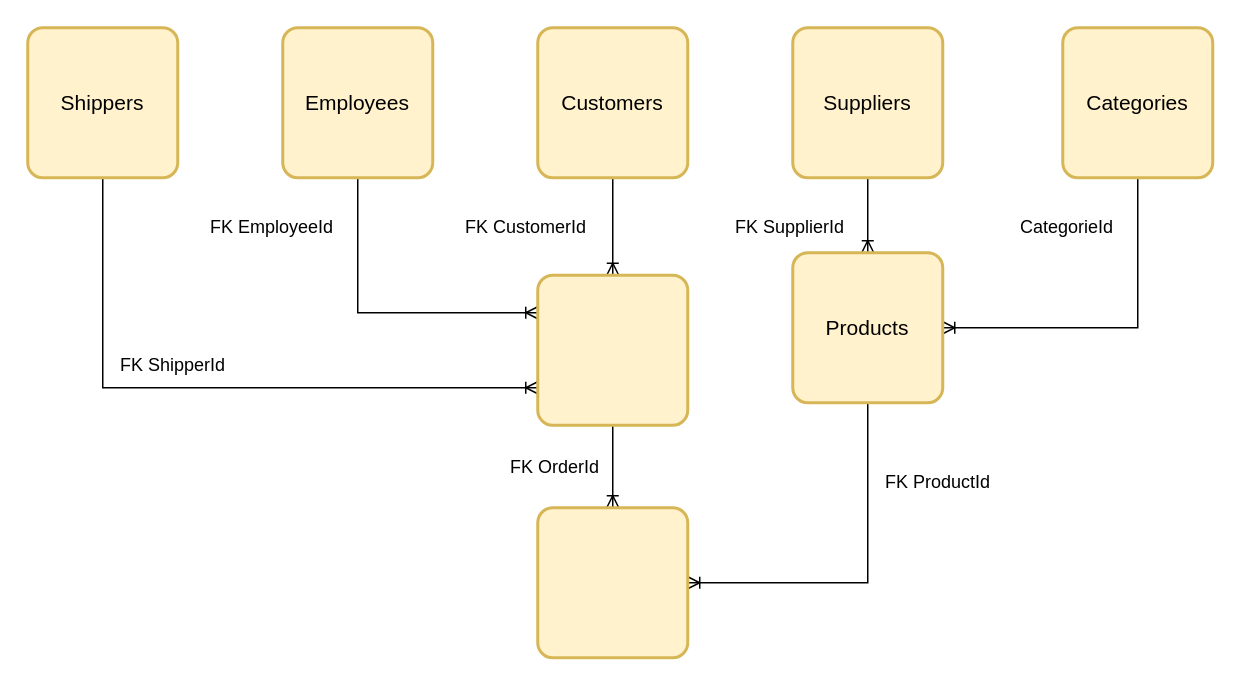
The diagram is 1239 pixels wide and 684 high, and some of its shapes have lost their labels. Here are the shapes that lost their labels. From the top down, the box of each, then its label:
(536, 273, 688, 426): Orders
(536, 506, 688, 658): Order Details
